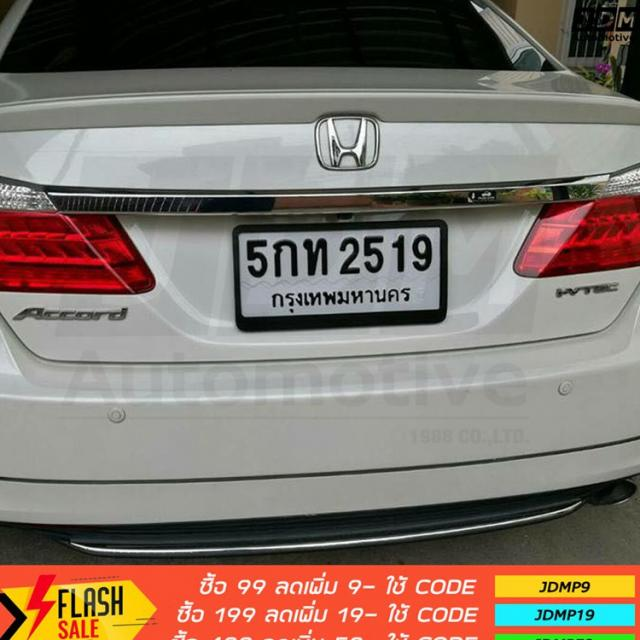license_plate: (231, 223, 449, 329)
